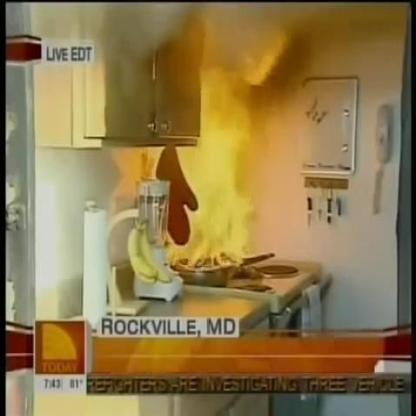fire: (160, 46, 266, 268)
